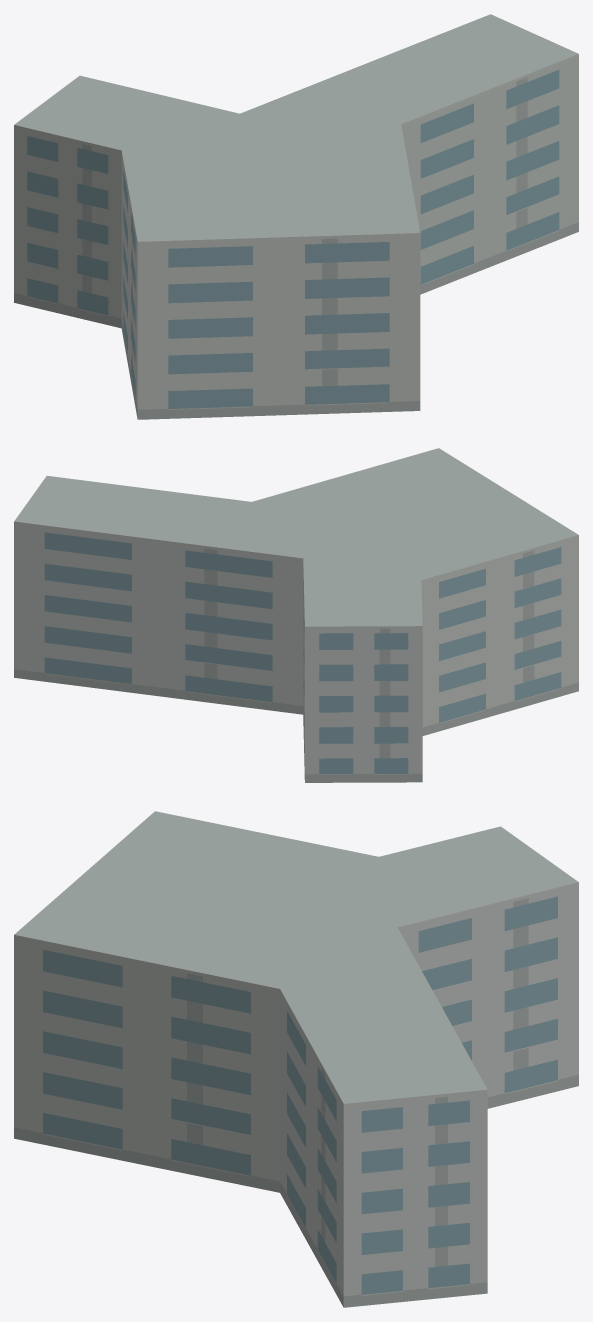
Rendered from residential-3073508c-095f-4781-8bc7-13de9fda970a.glb.
3 views of the same model, one above another, from view 1: azimuth 30°, elevation 25°; view 2: azimuth 150°, elevation 25°; view 3: azimuth 270°, elevation 25° (orthographic). The views are drawn at different scales.
Visible parts, largest first — view 1: residential-3073508c-095f-4781-8bc7-13de9fda970a.tmp; view 2: residential-3073508c-095f-4781-8bc7-13de9fda970a.tmp; view 3: residential-3073508c-095f-4781-8bc7-13de9fda970a.tmp.
Boxes of the visible parts, box(x1,y1,x2,y2) form: residential-3073508c-095f-4781-8bc7-13de9fda970a.tmp: box(14, 14, 578, 419); residential-3073508c-095f-4781-8bc7-13de9fda970a.tmp: box(14, 448, 578, 782); residential-3073508c-095f-4781-8bc7-13de9fda970a.tmp: box(14, 811, 578, 1307).
Size of the model in its own units: 46.98 by 15.25 by 38.3.
